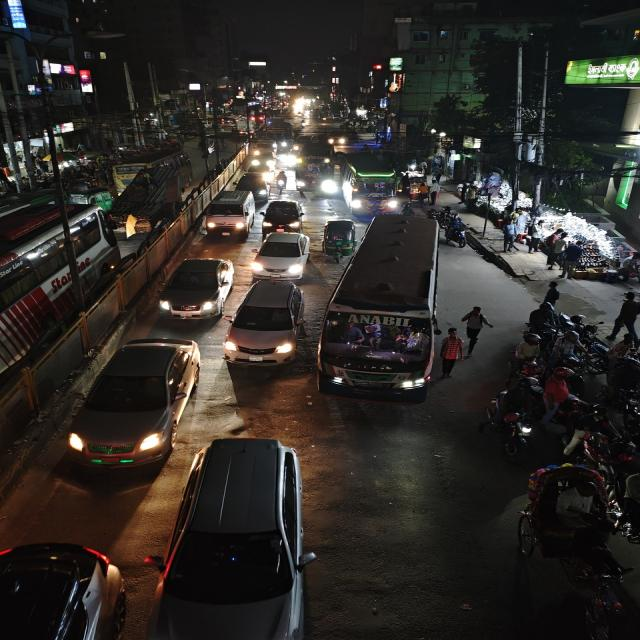bus: (323, 214, 448, 405), (0, 196, 114, 284), (341, 151, 402, 217), (296, 142, 339, 197)
car: (162, 436, 312, 640), (66, 333, 203, 469), (0, 538, 131, 640), (226, 277, 310, 367), (156, 254, 236, 320), (251, 229, 313, 279), (202, 188, 257, 238), (260, 198, 306, 232)
cng: (319, 218, 355, 260)
motorcycle: (481, 399, 536, 458), (440, 208, 470, 248)
pedestrian: (541, 365, 576, 415), (611, 290, 640, 338), (461, 304, 488, 354), (439, 326, 463, 376), (540, 280, 563, 308)
rickshaw: (511, 462, 636, 608), (320, 218, 354, 262)
